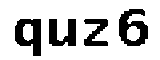6: (115, 6, 149, 50)
q: (12, 15, 44, 60)
u: (44, 15, 78, 50)
z: (79, 17, 111, 48)
